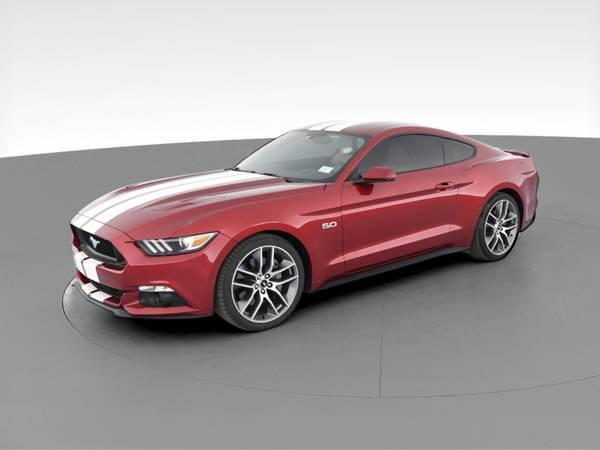Front_Bumper: (69, 233, 235, 315)
Front_Fender: (172, 184, 346, 290)
Front_Left_Door: (340, 165, 454, 279)
Front_Left_Window: (345, 132, 447, 181)
Front_Windshield: (232, 130, 367, 184)
Grille: (71, 224, 127, 272)
Hood: (66, 167, 329, 239)
Left_Headlight: (130, 232, 217, 258)
Rear_Fender: (443, 140, 537, 253)
Roof: (295, 121, 503, 179)
Wheel: (218, 233, 305, 330), (476, 192, 521, 261)
